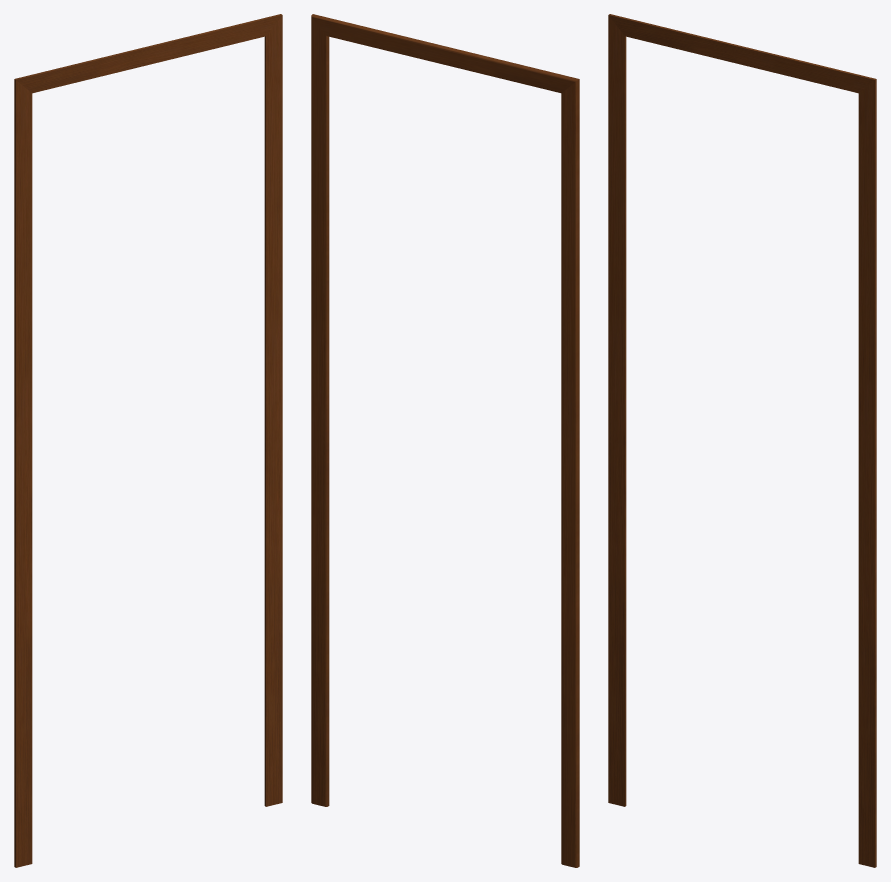
Rendered from 3ab_architrave_back.glb.
The picture shows the model from 3 angles, left to right: view 1: azimuth 30°, elevation 25°; view 2: azimuth 150°, elevation 25°; view 3: azimuth 330°, elevation 25°; orthographic projection.
Parts seen in each view (by area): view 1: _3a_b_architrave_back; view 2: _3a_b_architrave_back; view 3: _3a_b_architrave_back.
Part boxes in pixels (bbox=[...]): _3a_b_architrave_back: bbox=[14, 14, 282, 867]; _3a_b_architrave_back: bbox=[311, 14, 579, 867]; _3a_b_architrave_back: bbox=[608, 14, 876, 867].
Size of the model in its own units: 0.6451 by 1.82 by 0.01.
1 material, 1 textured.
